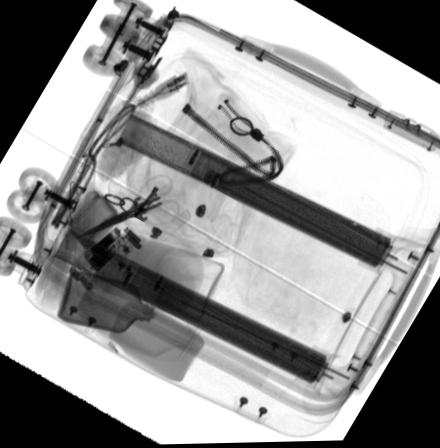Scissors: (75, 172, 181, 242)
